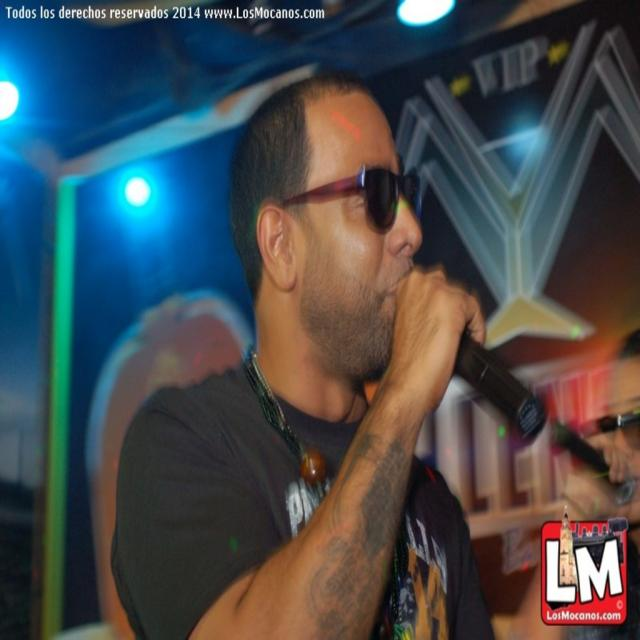Glasses: (287, 172, 425, 242), (597, 409, 639, 446)
